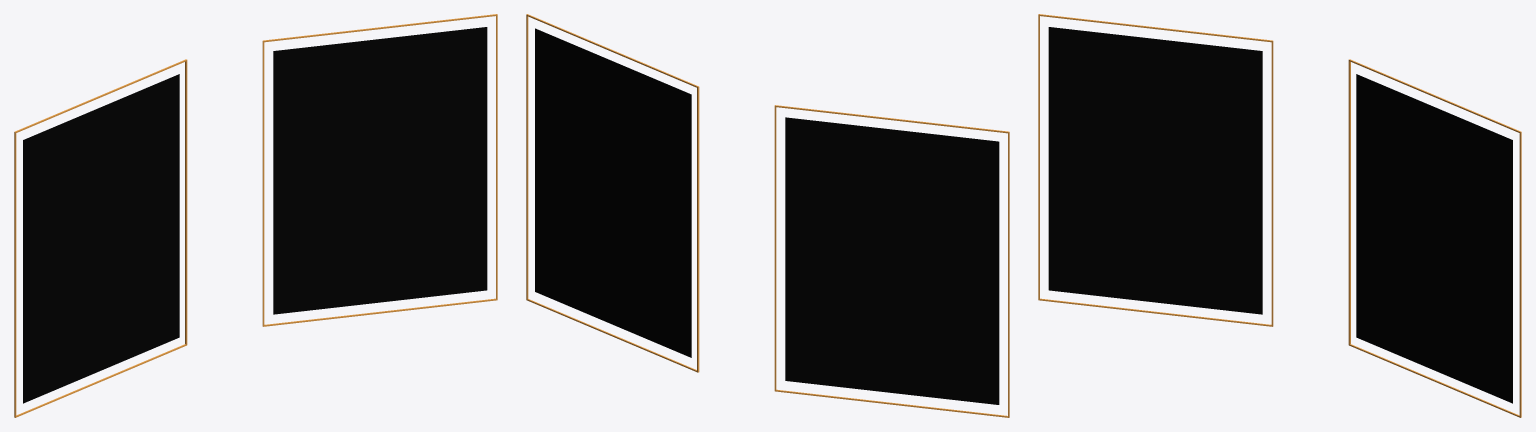
File: 2pictures_03.fbx
The picture shows the model from 3 angles, left to right: view 1: azimuth 30°, elevation 25°; view 2: azimuth 150°, elevation 25°; view 3: azimuth 330°, elevation 25°; orthographic projection.
Visible parts, largest first — view 1: picture, frame; view 2: picture, frame; view 3: picture, frame.
Part boxes in pixels (x1,y1,x2,y2): picture: (23, 27, 487, 403); frame: (14, 14, 497, 417); picture: (535, 28, 999, 404); frame: (526, 14, 1009, 417); picture: (1048, 27, 1512, 403); frame: (1038, 14, 1521, 417).
Bounding box in the file's own units: 9.07 × 5.13 × 1.05.
